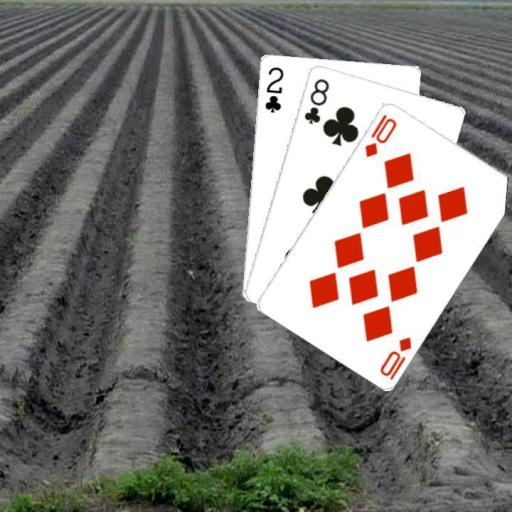10D: (361, 110, 398, 159), (376, 333, 413, 382)
2C: (261, 63, 284, 114)
8C: (301, 75, 331, 125)
